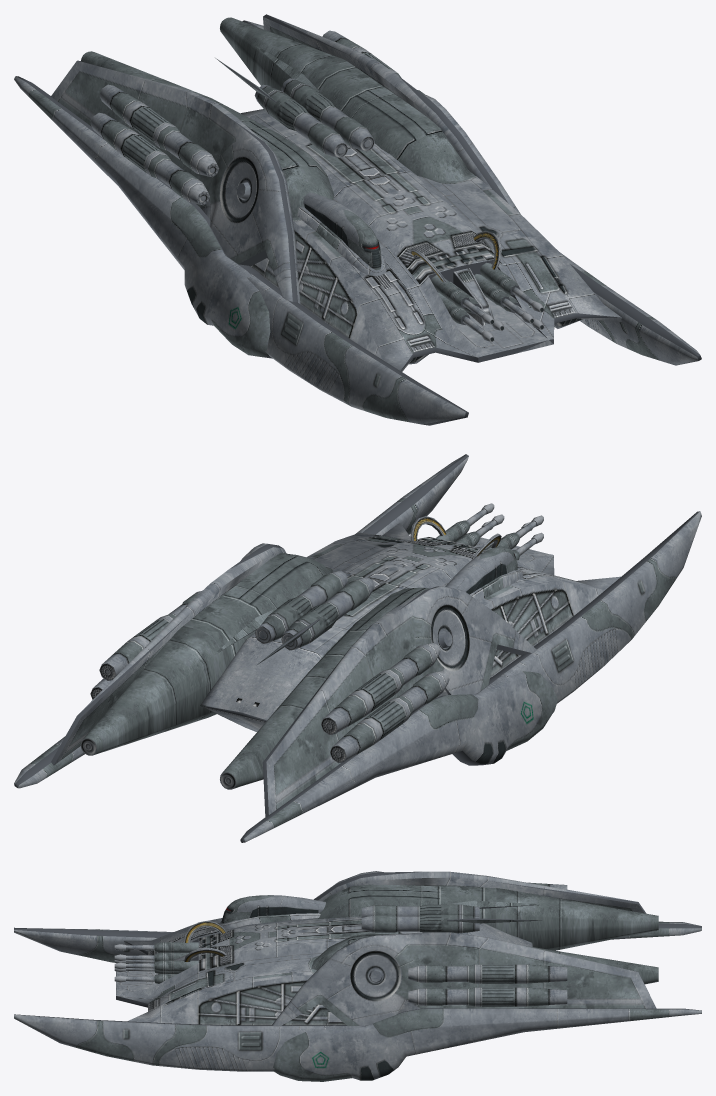
Rendered from CylonHeavyRaider.fbx.
3 views of the same model, one above another, from view 1: azimuth 30°, elevation 25°; view 2: azimuth 150°, elevation 25°; view 3: azimuth 270°, elevation 25° (orthographic). The views are drawn at different scales.
Visible parts, largest first — view 1: colftrh1co_1_1; view 2: colftrh1co_1_1; view 3: colftrh1co_1_1.
Boxes of the visible parts, bbox=[...] form: colftrh1co_1_1: bbox=[14, 14, 701, 425]; colftrh1co_1_1: bbox=[14, 454, 701, 842]; colftrh1co_1_1: bbox=[14, 871, 701, 1081].
Bounding box in the file's own units: 9.22 × 23.69 × 4.85.
Materials: 2 (1 with a texture image).
